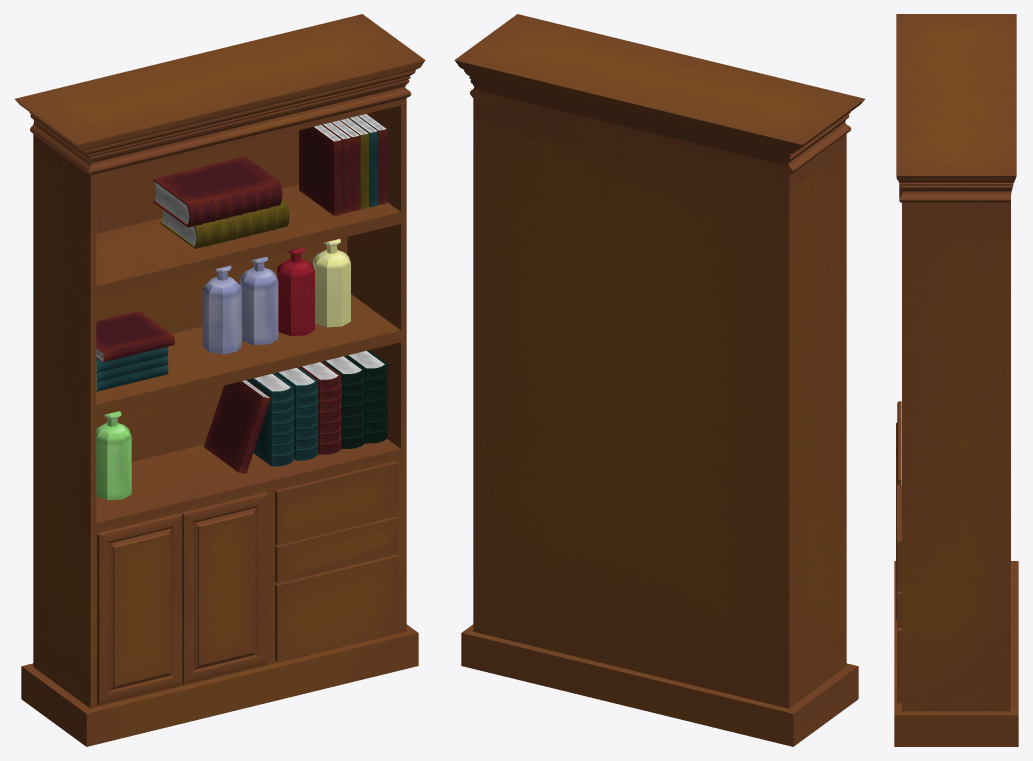
Rendered from Ropero.fbx.
The picture shows the model from 3 angles, left to right: view 1: azimuth 30°, elevation 25°; view 2: azimuth 150°, elevation 25°; view 3: azimuth 270°, elevation 25°; orthographic projection. The views are drawn at different scales.
Parts seen in each view (by area): view 1: Bookshelf, L_Door, R_Door, Drawer_3, Drawer_1, pCube27, Drawer_2, pCube29, pCube39, pCube47, pCube25, pCube48 (+17 smaller); view 2: Bookshelf; view 3: Bookshelf, Drawer_1, L_Door, Drawer_3, R_Door.
Boxes of the visible parts, x1,y1,x2,y2 form: Bookshelf: (15, 14, 425, 746); L_Door: (182, 492, 267, 684); R_Door: (97, 513, 182, 704); Drawer_3: (275, 554, 398, 661); Drawer_1: (275, 461, 398, 545); pCube27: (153, 156, 282, 227); Drawer_2: (275, 516, 398, 583); pCube29: (204, 380, 271, 473); pCube39: (299, 124, 342, 215); pCube47: (202, 265, 241, 354); pCube25: (247, 373, 294, 466); pCube48: (240, 256, 278, 344); Bookshelf: (454, 14, 864, 746); Bookshelf: (894, 14, 1018, 746); Drawer_1: (897, 485, 901, 591); L_Door: (896, 440, 901, 620); Drawer_3: (897, 628, 901, 703); R_Door: (896, 401, 901, 462).
Bounding box in the file's own units: 12.28 × 20.34 × 3.98.
Materials: 8 (8 with a texture image).
